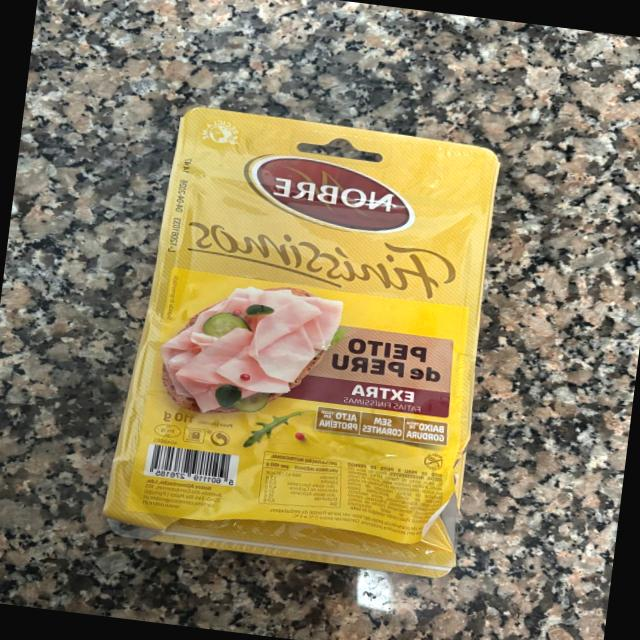damaged_package: (99, 103, 508, 579)
